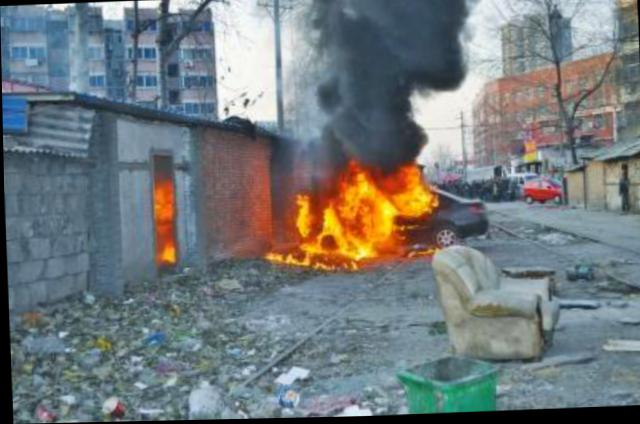fire: (335, 167, 388, 244), (385, 163, 428, 216), (151, 171, 173, 262), (295, 236, 371, 260), (309, 199, 339, 240), (292, 192, 310, 238), (263, 248, 306, 263)
smoke: (306, 0, 474, 98), (282, 95, 424, 166)
